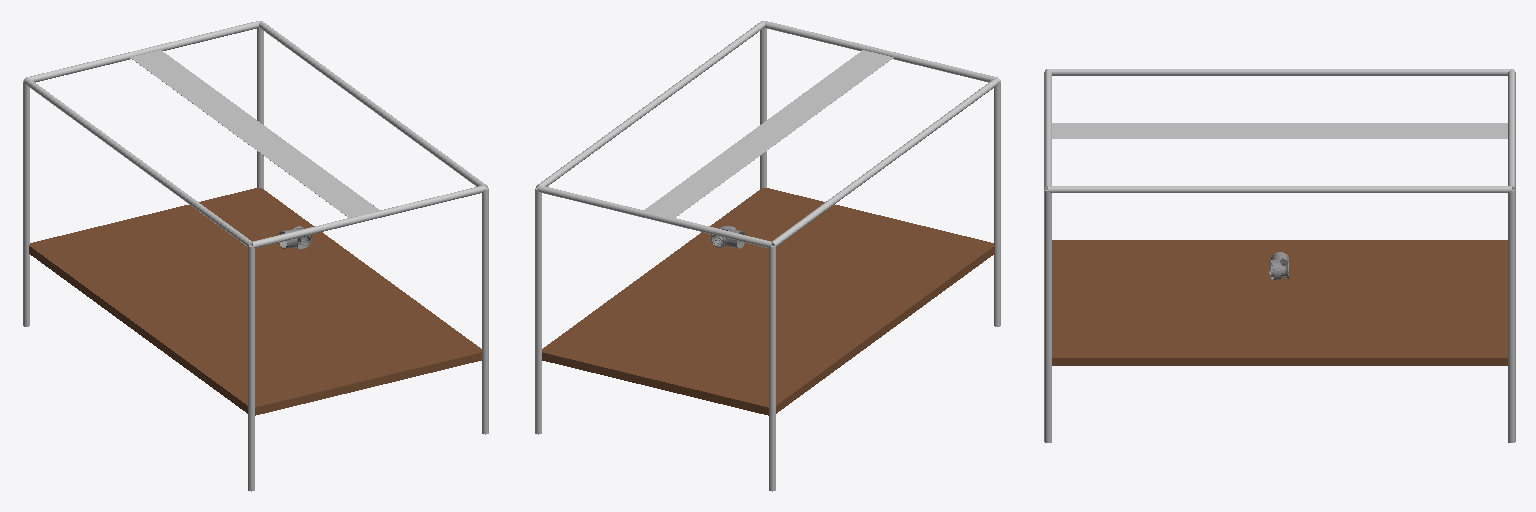
--- What the picture shows (computed from the rendered views, not written in the file) ---
3 views of the same robot in one strip: view 1: azimuth 30°, elevation 25°; view 2: azimuth 150°, elevation 25°; view 3: azimuth 270°, elevation 25° (orthographic).
Robot: repair_full — 39 links, 38 joints (14 revolute, 1 prismatic, 23 fixed); root link world; default pose: every joint at zero.
Visible links, largest first — view 1: table_top_link, sliding_guide_link, obar4_link, obar3_link, obar2_link, obar1_link, vbar4_link, vbar3_link, vbar2_link, vbar1_link, leg4_link, leg3_link (+1 smaller); view 2: table_top_link, sliding_guide_link, obar4_link, obar3_link, obar1_link, obar2_link, vbar2_link, vbar1_link, vbar4_link, vbar3_link, leg2_link, leg1_link (+1 smaller); view 3: table_top_link, sliding_guide_link, obar3_link, obar4_link, vbar1_link, vbar3_link, obar1_link, obar2_link, leg1_link, leg3_link.
Link boxes in pixels (x1=…): table_top_link: x1=29, y1=188, x2=481, y2=415; sliding_guide_link: x1=130, y1=50, x2=379, y2=217; obar4_link: x1=24, y1=78, x2=251, y2=246; obar3_link: x1=259, y1=21, x2=487, y2=187; obar2_link: x1=252, y1=185, x2=486, y2=247; obar1_link: x1=26, y1=21, x2=259, y2=82; vbar4_link: x1=248, y1=246, x2=254, y2=409; vbar3_link: x1=482, y1=188, x2=488, y2=352; vbar2_link: x1=23, y1=80, x2=29, y2=244; vbar1_link: x1=257, y1=28, x2=263, y2=187; leg4_link: x1=248, y1=409, x2=254, y2=491; leg3_link: x1=482, y1=352, x2=488, y2=434; table_top_link: x1=542, y1=188, x2=994, y2=415; sliding_guide_link: x1=644, y1=50, x2=893, y2=217; obar4_link: x1=772, y1=78, x2=999, y2=246; obar3_link: x1=536, y1=21, x2=764, y2=187; obar1_link: x1=537, y1=185, x2=771, y2=247; obar2_link: x1=764, y1=21, x2=997, y2=82; vbar2_link: x1=769, y1=246, x2=775, y2=409; vbar1_link: x1=535, y1=188, x2=541, y2=352; vbar4_link: x1=994, y1=80, x2=1000, y2=244; vbar3_link: x1=760, y1=28, x2=766, y2=187; leg2_link: x1=769, y1=409, x2=775, y2=491; leg1_link: x1=535, y1=352, x2=541, y2=434; table_top_link: x1=1052, y1=240, x2=1507, y2=365; sliding_guide_link: x1=1052, y1=123, x2=1507, y2=138; obar3_link: x1=1048, y1=186, x2=1511, y2=192; obar4_link: x1=1049, y1=69, x2=1510, y2=75; vbar1_link: x1=1508, y1=190, x2=1515, y2=358; vbar3_link: x1=1044, y1=190, x2=1051, y2=358; obar1_link: x1=1508, y1=69, x2=1515, y2=189; obar2_link: x1=1044, y1=69, x2=1051, y2=189; leg1_link: x1=1508, y1=358, x2=1515, y2=442; leg3_link: x1=1044, y1=358, x2=1051, y2=442.
Size in the robot's own frame: 1.54 by 2.54 by 1.52 metres.
1 mesh visuals loaded from 8 distinct referenced files (1 binary STL); not drawn: 12 (reference not matched to a file when rendering).

URDF robot description (repair_full):
<?xml version="1.0" ?>
<!-- =================================================================================== -->
<!-- |    This document was autogenerated by xacro from repair_full.urdf.xacro         | -->
<!-- |    EDITING THIS FILE BY HAND IS NOT RECOMMENDED                                 | -->
<!-- =================================================================================== -->
<robot name="repair_full">
  <!-- below this value, Gazebo parser ignores links
To give some  perspective, a grain of sand weights  0.0000045 grams. So this corresponds to less than 1/4 of a grain of sand of
fake inertia -> it is acceptable. -->
  <!-- color -->
  <material name="darkblue">
    <color rgba="0.0 0.3 0.9 1"/>
  </material>
  <material name="darkred">
    <color rgba="0.55 0.0 0.0 1"/>
  </material>
  <material name="dark">
    <color rgba="0.6 0.6 0.6 1"/>
  </material>
  <!-- Reading some parameters from a YAML config file -->
  <material name="wood">
    <color rgba="0.522 0.369 0.259 0.8"/>
  </material>
  <material name="silver_gray">
    <color rgba="0.8 0.8 0.8 0.8"/>
  </material>
  <link name="world">
  </link>
  <joint name="world_joint" type="fixed">
    <parent link="world"/>
    <origin rpy="0 0 0" xyz="0 0 0"/>
    <child link="table_top_link"/>
  </joint>
  <link name="table_top_link">
    <visual>
      <origin xyz="0.98 0.0 0.475"/>
      <geometry>
        <box size="1.5 2.5 0.05"/>
      </geometry>
      <material name="wood"/>
    </visual>
    <collision>
      <origin xyz="0.98 0.0 0.475"/>
      <geometry>
        <box size="1.5 2.5 0.05"/>
      </geometry>
    </collision>
  </link>
  <joint name="leg1_joint" type="fixed">
    <parent link="table_top_link"/>
    <origin rpy="0 0 0" xyz="1.73 1.25 0.5"/>
    <child link="leg1_link"/>
  </joint>
  <link name="leg1_link">
    <visual>
      <origin rpy="0 0 0" xyz="0.0 0.0 -0.25"/>
      <geometry>
        <cylinder length="0.5" radius="0.02"/>
      </geometry>
      <material name="silver_gray"/>
    </visual>
    <collision>
      <origin rpy="0.0 0.0 0.0" xyz="0.0 0.0 -0.25"/>
      <geometry>
        <cylinder length="0.5" radius="0.02"/>
      </geometry>
    </collision>
  </link>
  <joint name="vbar1_joint" type="fixed">
    <parent link="leg1_link"/>
    <origin rpy="0 0 0" xyz="0 0 0.5"/>
    <child link="vbar1_link"/>
  </joint>
  <link name="vbar1_link">
    <visual>
      <origin rpy="0 0 0" xyz="0.0 0.0 0"/>
      <geometry>
        <cylinder length="1.0" radius="0.02"/>
      </geometry>
      <material name="silver_gray"/>
    </visual>
    <collision>
      <origin rpy="0.0 0.0 0.0" xyz="0.0 0.0 0"/>
      <geometry>
        <cylinder length="1.0" radius="0.02"/>
      </geometry>
    </collision>
  </link>
  <joint name="leg2_joint" type="fixed">
    <parent link="table_top_link"/>
    <origin rpy="0 0 0" xyz="0.22999999999999998 1.25 0.5"/>
    <child link="leg2_link"/>
  </joint>
  <link name="leg2_link">
    <visual>
      <origin rpy="0 0 0" xyz="0.0 0.0 -0.25"/>
      <geometry>
        <cylinder length="0.5" radius="0.02"/>
      </geometry>
      <material name="silver_gray"/>
    </visual>
    <collision>
      <origin rpy="0.0 0.0 0.0" xyz="0.0 0.0 -0.25"/>
      <geometry>
        <cylinder length="0.5" radius="0.02"/>
      </geometry>
    </collision>
  </link>
  <joint name="vbar2_joint" type="fixed">
    <parent link="leg2_link"/>
    <origin rpy="0 0 0" xyz="0 0 0.5"/>
    <child link="vbar2_link"/>
  </joint>
  <link name="vbar2_link">
    <visual>
      <origin rpy="0 0 0" xyz="0.0 0.0 0"/>
      <geometry>
        <cylinder length="1.0" radius="0.02"/>
      </geometry>
      <material name="silver_gray"/>
    </visual>
    <collision>
      <origin rpy="0.0 0.0 0.0" xyz="0.0 0.0 0"/>
      <geometry>
        <cylinder length="1.0" radius="0.02"/>
      </geometry>
    </collision>
  </link>
  <joint name="leg3_joint" type="fixed">
    <parent link="table_top_link"/>
    <origin rpy="0 0 0" xyz="1.73 -1.25 0.5"/>
    <child link="leg3_link"/>
  </joint>
  <link name="leg3_link">
    <visual>
      <origin rpy="0 0 0" xyz="0.0 0.0 -0.25"/>
      <geometry>
        <cylinder length="0.5" radius="0.02"/>
      </geometry>
      <material name="silver_gray"/>
    </visual>
    <collision>
      <origin rpy="0.0 0.0 0.0" xyz="0.0 0.0 -0.25"/>
      <geometry>
        <cylinder length="0.5" radius="0.02"/>
      </geometry>
    </collision>
  </link>
  <joint name="vbar3_joint" type="fixed">
    <parent link="leg3_link"/>
    <origin rpy="0 0 0" xyz="0 0 0.5"/>
    <child link="vbar3_link"/>
  </joint>
  <link name="vbar3_link">
    <visual>
      <origin rpy="0 0 0" xyz="0.0 0.0 0"/>
      <geometry>
        <cylinder length="1.0" radius="0.02"/>
      </geometry>
      <material name="silver_gray"/>
    </visual>
    <collision>
      <origin rpy="0.0 0.0 0.0" xyz="0.0 0.0 0"/>
      <geometry>
        <cylinder length="1.0" radius="0.02"/>
      </geometry>
    </collision>
  </link>
  <joint name="leg4_joint" type="fixed">
    <parent link="table_top_link"/>
    <origin rpy="0 0 0" xyz="0.22999999999999998 -1.25 0.5"/>
    <child link="leg4_link"/>
  </joint>
  <link name="leg4_link">
    <visual>
      <origin rpy="0 0 0" xyz="0.0 0.0 -0.25"/>
      <geometry>
        <cylinder length="0.5" radius="0.02"/>
      </geometry>
      <material name="silver_gray"/>
    </visual>
    <collision>
      <origin rpy="0.0 0.0 0.0" xyz="0.0 0.0 -0.25"/>
      <geometry>
        <cylinder length="0.5" radius="0.02"/>
      </geometry>
    </collision>
  </link>
  <joint name="vbar4_joint" type="fixed">
    <parent link="leg4_link"/>
    <origin rpy="0 0 0" xyz="0 0 0.5"/>
    <child link="vbar4_link"/>
  </joint>
  <link name="vbar4_link">
    <visual>
      <origin rpy="0 0 0" xyz="0.0 0.0 0"/>
      <geometry>
        <cylinder length="1.0" radius="0.02"/>
      </geometry>
      <material name="silver_gray"/>
    </visual>
    <collision>
      <origin rpy="0.0 0.0 0.0" xyz="0.0 0.0 0"/>
      <geometry>
        <cylinder length="1.0" radius="0.02"/>
      </geometry>
    </collision>
  </link>
  <joint name="obar1_joint" type="fixed">
    <parent link="vbar1_link"/>
    <origin rpy="0 -1.57079632679 0" xyz="-0.75 0 0.5"/>
    <child link="obar1_link"/>
  </joint>
  <link name="obar1_link">
    <visual>
      <origin rpy="0 0 0" xyz="0.0 0.0 0"/>
      <geometry>
        <cylinder length="1.5" radius="0.02"/>
      </geometry>
      <material name="silver_gray"/>
    </visual>
    <collision>
      <origin rpy="0.0 0.0 0.0" xyz="0.0 0.0 0"/>
      <geometry>
        <cylinder length="1.5" radius="0.02"/>
      </geometry>
    </collision>
  </link>
  <joint name="obar2_joint" type="fixed">
    <parent link="vbar3_link"/>
    <origin rpy="0 -1.57079632679 0" xyz="-0.75 0 0.5"/>
    <child link="obar2_link"/>
  </joint>
  <link name="obar2_link">
    <visual>
      <origin rpy="0 0 0" xyz="0.0 0.0 0"/>
      <geometry>
        <cylinder length="1.5" radius="0.02"/>
      </geometry>
      <material name="silver_gray"/>
    </visual>
    <collision>
      <origin rpy="0.0 0.0 0.0" xyz="0.0 0.0 0"/>
      <geometry>
        <cylinder length="1.5" radius="0.02"/>
      </geometry>
    </collision>
  </link>
  <joint name="obar3_joint" type="fixed">
    <parent link="vbar3_link"/>
    <origin rpy="-1.57079632679 0 0" xyz="0 1.25 0.5"/>
    <child link="obar3_link"/>
  </joint>
  <link name="obar3_link">
    <visual>
      <origin rpy="0 0 0" xyz="0.0 0.0 0"/>
      <geometry>
        <cylinder length="2.5" radius="0.02"/>
      </geometry>
      <material name="silver_gray"/>
    </visual>
    <collision>
      <origin rpy="0.0 0.0 0.0" xyz="0.0 0.0 0"/>
      <geometry>
        <cylinder length="2.5" radius="0.02"/>
      </geometry>
    </collision>
  </link>
  <joint name="obar4_joint" type="fixed">
    <parent link="vbar4_link"/>
    <origin rpy="-1.57079632679 0 0" xyz="0 1.25 0.5"/>
    <child link="obar4_link"/>
  </joint>
  <link name="obar4_link">
    <!-- dummy intertia to make Gazebo urdf2sdf converter work -->
    <visual>
      <origin rpy="0 0 0" xyz="0.0 0.0 0"/>
      <geometry>
        <cylinder length="2.5" radius="0.02"/>
      </geometry>
      <material name="silver_gray"/>
    </visual>
    <collision>
      <origin rpy="0.0 0.0 0.0" xyz="0.0 0.0 0"/>
      <geometry>
        <cylinder length="2.5" radius="0.02"/>
      </geometry>
    </collision>
  </link>
  <joint name="sliding_guide_joint" type="fixed">
    <parent link="obar2_link"/>
    <origin rpy="-1.57079632679 0 0" xyz="0 1.25 0"/>
    <child link="sliding_guide_link"/>
  </joint>
  <link name="sliding_guide_link">
    <visual>
      <origin rpy="0 0 0" xyz="0.0 0.0 0"/>
      <geometry>
        <box size="0.001 0.2 2.5"/>
      </geometry>
      <material name="silver_gray"/>
    </visual>
    <collision>
      <origin rpy="0.0 0.0 0.0" xyz="0.0 0.0 0"/>
      <geometry>
        <cylinder length="2.5" radius="0.02"/>
      </geometry>
    </collision>
  </link>
  <joint name="working_surface_joint" type="fixed">
    <parent link="sliding_guide_link"/>
    <origin rpy="0.0 -1.57079632679 3.14159265359" xyz="-1.0 0 0"/>
    <child link="working_surface_link"/>
  </joint>
  <link name="working_surface_link">
    <!-- Huge inertia (does not matter, is fixed to the world)-->
    <inertial>
      <mass value="1000"/>
      <origin xyz="0 0 0"/>
      <inertia ixx="0" ixy="0" ixz="0" iyy="0" iyz="0" izz="0"/>
    </inertial>
  </link>
  <gazebo reference="table_top_link">
    <material>Gazebo/Wood </material>
  </gazebo>
  <gazebo reference="leg1_link">
    <material>Gazebo/Grey </material>
  </gazebo>
  <gazebo reference="leg2_link">
    <material>Gazebo/Grey </material>
  </gazebo>
  <gazebo reference="leg3_link">
    <material>Gazebo/Grey </material>
  </gazebo>
  <gazebo reference="leg4_link">
    <material>Gazebo/Grey </material>
  </gazebo>
  <gazebo reference="vbar1_link">
    <material>Gazebo/Grey </material>
  </gazebo>
  <gazebo reference="vbar2_link">
    <material>Gazebo/Grey </material>
  </gazebo>
  <gazebo reference="vbar3_link">
    <material>Gazebo/Grey </material>
  </gazebo>
  <gazebo reference="vbar4_link">
    <material>Gazebo/Grey </material>
  </gazebo>
  <gazebo reference="obar1_link">
    <material>Gazebo/Grey </material>
  </gazebo>
  <gazebo reference="obar2_link">
    <material>Gazebo/Grey </material>
  </gazebo>
  <gazebo reference="obar3_link">
    <material>Gazebo/Grey </material>
  </gazebo>
  <gazebo reference="obar4_link">
    <material>Gazebo/Grey </material>
  </gazebo>
  <gazebo reference="sliding_guide_link">
    <material>Gazebo/Grey </material>
  </gazebo>
  <!-- Reading some parameters from a YAML config file -->
  <joint name="x_joint" type="prismatic">
    <origin rpy="0.0 0.0 0.0" xyz="0.0 0.0 0.3034329527232317"/>
    <parent link="working_surface_link"/>
    <child link="base_link"/>
    <axis xyz="1 0 0"/>
    <limit effort="1000.0" lower="-1.15" upper="1.15" velocity="20.0"/>
  </joint>
  <link name="base_link">
    <!-- torso inertias + stuff attached to the sliding guide -->
    <inertial>
      <mass value="5.0"/>
      <origin xyz="0 0 0"/>
      <inertia ixx="0" ixy="0" ixz="0" iyy="0" iyz="0" izz="0"/>
    </inertial>
    <visual name="base_link_visual">
      <geometry>
        <mesh filename="package://repair_urdf/meshes/optimized/link_0.stl" scale="0.001 0.001 0.001"/>
      </geometry>
      <material name="dark"/>
    </visual>
  </link>
  <joint name="r_arm_mount_joint" type="fixed">
    <origin rpy="0 0 0" xyz="0.0 -0.2942172496425824 0.0"/>
    <parent link="base_link"/>
    <child link="dummy_r"/>
  </joint>
  <joint name="l_arm_mount_joint" type="fixed">
    <origin rpy="0 0 0" xyz="0.0 0.2942172496425824 0.0"/>
    <parent link="base_link"/>
    <child link="dummy_l"/>
  </joint>
  <link name="dummy_r">
    </link>
  <link name="dummy_l">
    </link>
  <joint name="roll_r" type="fixed">
    <origin rpy="0.09051373592070662 0.0 0.0" xyz="0 0.0 0.0"/>
    <parent link="dummy_r"/>
    <child link="r_arm_mount_frame"/>
  </joint>
  <joint name="roll_l" type="fixed">
    <origin rpy="-0.09051373592070662 0.0 0.0" xyz="0 0.0 0.0"/>
    <parent link="dummy_l"/>
    <child link="l_arm_mount_frame"/>
  </joint>
  <link name="r_arm_mount_frame">
    <!-- dummy intertia to make Gazebo urdf2sdf converter work -->
    <inertial>
      <mass value="1.00000000000001e-06"/>
      <origin xyz="0 0 0"/>
      <inertia ixx="0" ixy="0" ixz="0" iyy="0" iyz="0" izz="0"/>
    </inertial>
  </link>
  <link name="l_arm_mount_frame">
    <!-- dummy intertia to make Gazebo urdf2sdf converter work -->
    <inertial>
      <mass value="1.00000000000001e-06"/>
      <origin xyz="0 0 0"/>
      <inertia ixx="0" ixy="0" ixz="0" iyy="0" iyz="0" izz="0"/>
    </inertial>
  </link>
  <!-- id: 1 for right arm, everything else is considered left arm -->
  <!-- base_link: name of base link a the single arm -->
  <!-- is_sliding_wrist: whether to add a sliding joint along the axis of wrist's second d.o.f.
    (true -> yes), everything else -> no -->
  <!-- show_softhand: whether to use softhand or not at the TCP -->
  <joint name="arm_1_joint_1" type="revolute">
    <origin rpy="1.57079632679 0 0" xyz="0 0 0"/>
    <parent link="r_arm_mount_frame"/>
    <child link="arm_1_link_1"/>
    <axis xyz="0 0 1"/>
    <limit effort="200.0" lower="-2.6179938779916667" upper="2.6179938779916667" velocity="10.0"/>
  </joint>
  <link name="arm_1_link_1">
    <inertial>
      <mass value="2"/>
      <inertia ixx="0.0015" ixy="-9.999999999999999e-05" ixz="0.0" iyy="0.0026999999999999997" iyz="9.999999999999999e-05" izz="0.0028"/>
      <origin xyz="0 0 -0.01"/>
    </inertial>
    <collision name="arm_1_link_1_collision">
      <geometry>
        <mesh filename="package://repair_urdf/meshes/optimized/link_1.stl" scale="0.001 0.001 0.001"/>
      </geometry>
      <material name="dark"/>
    </collision>
    <visual name="arm_1_link_1_visual">
      <geometry>
        <mesh filename="package://repair_urdf/meshes/optimized/link_1.stl" scale="0.001 0.001 0.001"/>
      </geometry>
      <material name="dark"/>
    </visual>
  </link>
  <joint name="arm_1_joint_2" type="revolute">
    <origin rpy="0 -1.57079632679 -3.14159265359" xyz="0.0385 -0.023 0"/>
    <parent link="arm_1_link_1"/>
    <child link="arm_1_link_2"/>
    <axis xyz="0 0 1"/>
    <limit effort="200.0" lower="-1.3962634015955555" upper="2.1816615649930555" velocity="10.0"/>
  </joint>
  <link name="arm_1_link_2">
    <inertial>
      <mass value="0.4"/>
      <inertia ixx="0.00067" ixy="0.0" ixz="0.00017999999999999998" iyy="0.0009699999999999999" iyz="0.0" izz="0.001"/>
      <origin xyz="0.04 0.0 0.035"/>
    </inertial>
    <collision name="arm_1_link_2_collision">
      <geometry>
        <mesh filename="package://repair_urdf/meshes/optimized/link_2.stl" scale="0.001 0.001 0.001"/>
      </geometry>
      <material name="dark"/>
    </collision>
    <visual name="arm_1_link_2_visual">
      <geometry>
        <mesh filename="package://repair_urdf/meshes/optimized/link_2.stl" scale="0.001 0.001 0.001"/>
      </geometry>
      <material name="dark"/>
    </visual>
  </link>
  <joint name="arm_1_joint_3" type="revolute">
    <origin rpy="0 1.57079632679 0" xyz="0.005 0 0"/>
    <origin rpy="0 -1.57079632679 -3.14159265359" xyz="0.005 0 0"/>
    <parent link="arm_1_link_2"/>
    <child link="arm_1_link_3"/>
    <axis xyz="0 0 1"/>
    <limit effort="200.0" lower="-2.6179938779916667" upper="2.6179938779916667" velocity="10.0"/>
  </joint>
  <link name="arm_1_link_3">
    <inertial>
      <mass value="3.3"/>
      <inertia ixx="0.024999999999999998" ixy="0.0" ixz="0.0" iyy="0.026" iyz="0.0" izz="0.022"/>
      <origin xyz="0.0 -0.025 0.23"/>
    </inertial>
    <collision name="arm_1_link_3_collision">
      <geometry>
        <mesh filename="package://repair_urdf/meshes/optimized/link_3.stl" scale="0.001 0.001 0.001"/>
      </geometry>
      <material name="dark"/>
    </collision>
    <visual name="arm_1_link_3_visual">
      <geometry>
        <mesh filename="package://repair_urdf/meshes/optimized/link_3.stl" scale="0.001 0.001 0.001"/>
      </geometry>
      <material name="dark"/>
    </visual>
  </link>
  <joint name="arm_1_joint_4" type="revolute">
    <origin rpy="0 -1.57079632679 -3.14159265359" xyz="0 0.0225 0.36014999999999997"/>
    <parent link="arm_1_link_3"/>
    <child link="arm_1_link_4"/>
    <axis xyz="0 0 1"/>
    <limit effort="200.0" lower="-2.6179938779916667" upper="2.0943951023933334" velocity="10.0"/>
  </joint>
  <link name="arm_1_link_4">
    <inertial>
      <mass value="0.4"/>
      <inertia ixx="0.00067" ixy="0.0" ixz="0.00017999999999999998" iyy="0.0009699999999999999" iyz="0.0" izz="0.001"/>
      <origin xyz="0.04 0.0 0.035"/>
    </inertial>
    <collision name="arm_1_link_4_collision">
      <geometry>
        <mesh filename="package://repair_urdf/meshes/optimized/link_4.stl" scale="0.001 0.001 0.001"/>
      </geometry>
      <material name="dark"/>
    </collision>
    <visual name="arm_1_link_4_visual">
      <geometry>
        <mesh filename="package://repair_urdf/meshes/optimized/link_4.stl" scale="0.001 0.001 0.001"/>
      </geometry>
      <material name="dark"/>
    </visual>
  </link>
  <joint name="arm_1_joint_5" type="revolute">
    <origin rpy="-1.57079632679 0 -1.57079632679" xyz="0.005 0 0"/>
    <parent link="arm_1_link_4"/>
    <child link="arm_1_link_5"/>
    <axis xyz="0 0 1"/>
    <limit effort="200.0" lower="-2.6179938779916667" upper="2.6179938779916667" velocity="10.0"/>
  </joint>
  <link name="arm_1_link_5">
    <inertial>
      <mass value="2.8"/>
      <inertia ixx="0.032" ixy="0.0" ixz="0.0017" iyy="0.033999999999999996" iyz="0.0" izz="0.028999999999999998"/>
      <origin xyz="-0.005 0.0 0.2"/>
    </inertial>
    <collision name="arm_1_link_5_collision">
      <geometry>
        <mesh filename="package://repair_urdf/meshes/optimized/link_5.stl" scale="0.001 0.001 0.001"/>
      </geometry>
      <material name="dark"/>
    </collision>
    <visual name="arm_1_link_5_visual">
      <geometry>
        <mesh filename="package://repair_urdf/meshes/optimized/link_5.stl" scale="0.001 0.001 0.001"/>
      </geometry>
      <material name="dark"/>
    </visual>
  </link>
  <joint name="arm_1_joint_6" type="revolute">
    <origin rpy="0 -1.57079632679 0" xyz="0 0 0.321"/>
    <parent link="arm_1_link_5"/>
    <child link="dummy_sliding_wrist1_link"/>
    <axis xyz="0 0 1"/>
    <limit effort="200.0" lower="-2.6179938779916667" upper="2.6179938779916667" velocity="10.0"/>
  </joint>
  <link name="dummy_sliding_wrist1_link">
    
    </link>
  <joint name="dummy_sliding_wrist1_joint" type="fixed">
    <origin rpy="0 0 0" xyz="0.0 0.0 -0.09589076394119754"/>
    <parent link="dummy_sliding_wrist1_link"/>
    <child link="arm_1_link_6"/>
  </joint>
  <link name="arm_1_link_6">
    <inertial>
      <mass value="1.8"/>
      <inertia ixx="0.0017" ixy="0.0" ixz="0.0" iyy="0.0025" iyz="9.999999999999999e-05" izz="0.0026999999999999997"/>
      <origin xyz="0.0 0.0 0.0"/>
    </inertial>
    <collision name="arm_1_link_6_collision">
      <geometry>
        <mesh filename="package://repair_urdf/meshes/optimized/link_6.stl" scale="0.001 0.001 0.001"/>
      </geometry>
      <material name="dark"/>
    </collision>
    <visual name="arm_1_link_6_visual">
      <geometry>
        <mesh filename="package://repair_urdf/meshes/optimized/link_6.stl" scale="0.001 0.001 0.001"/>
      </geometry>
      <material name="dark"/>
    </visual>
  </link>
  <joint name="arm_1_joint_7" type="revolute">
    <origin rpy="1.57079632679 0 1.57079632679" xyz="0.18 0 0"/>
    <parent link="arm_1_link_6"/>
    <child link="arm_1_link_7"/>
    <axis xyz="0 0 1"/>
    <limit effort="200.0" lower="-2.6179938779916667" upper="2.6179938779916667" velocity="10.0"/>
  </joint>
  <link name="arm_1_link_7">
    <inertial>
      <mass value="1.5"/>
      <inertia ixx="0.024999999999999998" ixy="0.0" ixz="0.0" iyy="0.024999999999999998" iyz="9.999999999999999e-05" izz="0.023"/>
      <origin xyz="0.0 0.0 0.0"/>
    </inertial>
    <collision name="arm_1_link_7_collision">
      <geometry>
        <mesh filename="package://repair_urdf/meshes/optimized/link_7_sh.stl" scale="0.001 0.001 0.001"/>
      </geometry>
      <material name="dark"/>
    </collision>
  </link>
  <joint name="arm_1_tcp_joint" type="fixed">
    <origin rpy="0 -2.3561944901874483 -1.57079632679" xyz="0 -0.014142135623730949 0.02414213562373095"/>
    <parent link="arm_1_link_7"/>
    <child link="arm_1_tcp"/>
  </joint>
  <link name="arm_1_tcp">
  </link>
  <!-- id: 1 for right arm, everything else is considered left arm -->
  <!-- base_link: name of base link a the single arm -->
  <!-- is_sliding_wrist: whether to add a sliding joint along the axis of wrist's second d.o.f.
    (true -> yes), everything else -> no -->
  <!-- show_softhand: whether to use softhand or not at the TCP -->
  <joint name="arm_2_joint_1" type="revolute">
    <origin rpy="-1.57079632679 0 0" xyz="0 0 0"/>
    <parent link="l_arm_mount_frame"/>
    <child link="arm_2_link_1"/>
    <axis xyz="0 0 1"/>
    <limit effort="200.0" lower="-2.6179938779916667" upper="2.6179938779916667" velocity="10.0"/>
  </joint>
  <link name="arm_2_link_1">
    <inertial>
      <mass value="2"/>
      <inertia ixx="0.0015" ixy="-9.999999999999999e-05" ixz="0.0" iyy="0.0026999999999999997" iyz="9.999999999999999e-05" izz="0.0028"/>
      <origin xyz="0 0 -0.01"/>
    </inertial>
    <collision name="arm_2_link_1_collision">
      <geometry>
        <mesh filename="package://repair_urdf/meshes/optimized/link_1_mirror.stl" scale="0.001 0.001 0.001"/>
      </geometry>
      <material name="dark"/>
    </collision>
    <visual name="arm_2_link_1_visual">
      <geometry>
        <mesh filename="package://repair_urdf/meshes/optimized/link_1_mirror.stl" scale="0.001 0.001 0.001"/>
      </geometry>
      <material name="dark"/>
    </visual>
  </link>
  <joint name="arm_2_joint_2" type="revolute">
    <origin rpy="0 -1.57079632679 -3.14159265359" xyz="0.0385 0.023 0"/>
    <parent link="arm_2_link_1"/>
    <child link="arm_2_link_2"/>
    <axis xyz="0 0 1"/>
    <limit effort="200.0" lower="-1.3962634015955555" upper="2.1816615649930555" velocity="10.0"/>
  </joint>
  <link name="arm_2_link_2">
    <inertial>
      <mass value="0.4"/>
      <inertia ixx="0.00067" ixy="0.0" ixz="0.00017999999999999998" iyy="0.0009699999999999999" iyz="0.0" izz="0.001"/>
      <origin xyz="0.04 0.0 0.035"/>
    </inertial>
    <collision name="arm_2_link_2_collision">
      <geometry>
        <mesh filename="package://repair_urdf/meshes/optimized/link_2.stl" scale="0.001 0.001 0.001"/>
      </geometry>
      <material name="dark"/>
    </collision>
    <visual name="arm_2_link_2_visual">
      <geometry>
        <mesh filename="package://repair_urdf/meshes/optimized/link_2.stl" scale="0.001 0.001 0.001"/>
      </geometry>
      <material name="dark"/>
    </visual>
  </link>
  <joint name="arm_2_joint_3" type="revolute">
    <origin rpy="0 -1.57079632679 -3.14159265359" xyz="0.005 0 0"/>
    <parent link="arm_2_link_2"/>
    <child link="arm_2_link_3"/>
    <axis xyz="0 0 1"/>
    <limit effort="200.0" lower="-2.6179938779916667" upper="2.6179938779916667" velocity="10.0"/>
  </joint>
  <link name="arm_2_link_3">
    <inertial>
      <mass value="3.3"/>
      <inertia ixx="0.024999999999999998" ixy="0.0" ixz="0.0" iyy="0.026" iyz="0.0" izz="0.022"/>
      <origin xyz="0.0 -0.025 0.23"/>
    </inertial>
    <collision name="arm_2_link_3_collision">
      <geometry>
        <mesh filename="package://repair_urdf/meshes/optimized/link_3.stl" scale="0.001 0.001 0.001"/>
      </geometry>
      <material name="dark"/>
    </collision>
    <visual name="arm_2_link_3_visual">
      <geometry>
        <mesh filename="package://repair_urdf/meshes/optimized/link_3.stl" scale="0.001 0.001 0.001"/>
      </geometry>
      <material name="dark"/>
    </visual>
  </link>
  <joint name="arm_2_joint_4" type="revolute">
    <origin rpy="0 -1.57079632679 -3.14159265359" xyz="0 0.0225 0.36014999999999997"/>
    <parent link="arm_2_link_3"/>
    <child link="arm_2_link_4"/>
    <axis xyz="0 0 1"/>
    <limit effort="200.0" lower="-2.6179938779916667" upper="2.0943951023933334" velocity="10.0"/>
  </joint>
  <link name="arm_2_link_4">
    <inertial>
      <mass value="0.4"/>
      <inertia ixx="0.00067" ixy="0.0" ixz="0.00017999999999999998" iyy="0.0009699999999999999" iyz="0.0" izz="0.001"/>
      <origin xyz="0.04 0.0 0.035"/>
    </inertial>
    <collision name="arm_2_link_4_collision">
      <geometry>
        <mesh filename="package://repair_urdf/meshes/optimized/link_4.stl" scale="0.001 0.001 0.001"/>
      </geometry>
      <material name="dark"/>
    </collision>
    <visual name="arm_2_link_4_visual">
      <geometry>
        <mesh filename="package://repair_urdf/meshes/optimized/link_4.stl" scale="0.001 0.001 0.001"/>
      </geometry>
      <material name="dark"/>
    </visual>
  </link>
  <joint name="arm_2_joint_5" type="revolute">
    <origin rpy="-1.57079632679 0 -1.57079632679" xyz="0.005 0 0"/>
    <parent link="arm_2_link_4"/>
    <child link="arm_2_link_5"/>
    <axis xyz="0 0 1"/>
    <limit effort="200.0" lower="-2.6179938779916667" upper="2.6179938779916667" velocity="10.0"/>
  </joint>
  <link name="arm_2_link_5">
    <inertial>
      <mass value="2.8"/>
      <inertia ixx="0.032" ixy="0.0" ixz="0.0017" iyy="0.033999999999999996" iyz="0.0" izz="0.028999999999999998"/>
      <origin xyz="-0.005 0.0 0.2"/>
    </inertial>
    <collision name="arm_2_link_5_collision">
      <geometry>
        <mesh filename="package://repair_urdf/meshes/optimized/link_5.stl" scale="0.001 0.001 0.001"/>
      </geometry>
      <material name="dark"/>
    </collision>
    <visual name="arm_2_link_5_visual">
      <geometry>
        <mesh filename="package://repair_urdf/meshes/optimized/link_5.stl" scale="0.001 0.001 0.001"/>
      </geometry>
      <material name="dark"/>
    </visual>
  </link>
  <joint name="arm_2_joint_6" type="revolute">
    <origin rpy="0 -1.57079632679 0" xyz="0 0 0.321"/>
    <parent link="arm_2_link_5"/>
    <child link="dummy_sliding_wrist2_link"/>
    <axis xyz="0 0 1"/>
    <limit effort="200.0" lower="-2.6179938779916667" upper="2.6179938779916667" velocity="10.0"/>
  </joint>
  <link name="dummy_sliding_wrist2_link">
    
    </link>
  <joint name="dummy_sliding_wrist2_joint" type="fixed">
    <origin rpy="0 0 0" xyz="0.0 0.0 -0.09589076394119754"/>
    <parent link="dummy_sliding_wrist2_link"/>
    <child link="arm_2_link_6"/>
  </joint>
  <link name="arm_2_link_6">
    <inertial>
      <mass value="1.8"/>
      <inertia ixx="0.0017" ixy="0.0" ixz="0.0" iyy="0.0025" iyz="9.999999999999999e-05" izz="0.0026999999999999997"/>
      <origin xyz="0.0 0.0 0.0"/>
    </inertial>
    <collision name="arm_2_link_6_collision">
      <geometry>
        <mesh filename="package://repair_urdf/meshes/optimized/link_6.stl" scale="0.001 0.001 0.001"/>
      </geometry>
      <material name="dark"/>
    </collision>
    <visual name="arm_2_link_6_visual">
      <geometry>
        <mesh filename="package://repair_urdf/meshes/optimized/link_6.stl" scale="0.001 0.001 0.001"/>
      </geometry>
      <material name="dark"/>
    </visual>
  </link>
  <joint name="arm_2_joint_7" type="revolute">
    <origin rpy="-1.57079632679 3.14159265359 -1.57079632679" xyz="0.18 0 0"/>
    <!-- <origin xyz="${180.000 * mmTom} 0 0" rpy="${-PI_2} 0 ${-PI_2}"/> -->
    <parent link="arm_2_link_6"/>
    <child link="arm_2_link_7"/>
    <axis xyz="0 0 1"/>
    <limit effort="200.0" lower="-2.6179938779916667" upper="2.6179938779916667" velocity="10.0"/>
  </joint>
  <link name="arm_2_link_7">
    <inertial>
      <mass value="1.5"/>
      <inertia ixx="0.024999999999999998" ixy="0.0" ixz="0.0" iyy="0.024999999999999998" iyz="9.999999999999999e-05" izz="0.023"/>
      <origin xyz="0.0 0.0 0.0"/>
    </inertial>
    <collision name="arm_2_link_7_collision">
      <geometry>
        <mesh filename="package://repair_urdf/meshes/optimized/link_7_sh.stl" scale="0.001 0.001 0.001"/>
      </geometry>
      <material name="dark"/>
    </collision>
  </link>
  <joint name="arm_2_tcp_joint" type="fixed">
    <origin rpy="0 -2.3561944901874483 -1.57079632679" xyz="0 -0.014142135623730949 0.02414213562373095"/>
    <parent link="arm_2_link_7"/>
    <child link="arm_2_tcp"/>
  </joint>
  <link name="arm_2_tcp">
  </link>
  <gazebo reference="arm_1_link_1">
    <material>Gazebo/BlackTransparent   </material>
  </gazebo>
  <gazebo reference="arm_1_link_2">
    <material>Gazebo/GreenTransparent    </material>
  </gazebo>
  <gazebo reference="arm_1_link_3">
    <material>Gazebo/BlackTransparent   </material>
  </gazebo>
  <gazebo reference="arm_1_link_4">
    <material>Gazebo/GreenTransparent    </material>
  </gazebo>
  <gazebo reference="arm_1_link_5">
    <material>Gazebo/BlackTransparent  </material>
  </gazebo>
  <gazebo reference="arm_1_link_6">
    <material>Gazebo/GreenTransparent    </material>
  </gazebo>
  <gazebo reference="arm_1_link_7">
    <material>Gazebo/BlackTransparent  </material>
  </gazebo>
  <gazebo reference="arm_1_tcp">
    <material>Gazebo/GreyTransparent    </material>
  </gazebo>
  <gazebo reference="arm_2_link_1">
    <material>Gazebo/BlackTransparent   </material>
  </gazebo>
  <gazebo reference="arm_2_link_2">
    <material>Gazebo/GreenTransparent    </material>
  </gazebo>
  <gazebo reference="arm_2_link_3">
    <material>Gazebo/BlackTransparent   </material>
  </gazebo>
  <gazebo reference="arm_2_link_4">
    <material>Gazebo/GreenTransparent    </material>
  </gazebo>
  <gazebo reference="arm_2_link_5">
    <material>Gazebo/BlackTransparent  </material>
  </gazebo>
  <gazebo reference="arm_2_link_6">
    <material>Gazebo/GreenTransparent    </material>
  </gazebo>
  <gazebo reference="arm_2_link_7">
    <material>Gazebo/BlackTransparent  </material>
  </gazebo>
  <gazebo reference="arm_2_tcp">
    <material>Gazebo/GreyTransparent    </material>
  </gazebo>
  <gazebo reference="base_link">
    <material>Gazebo/GreenTransparent   </material>
  </gazebo>
</robot>
